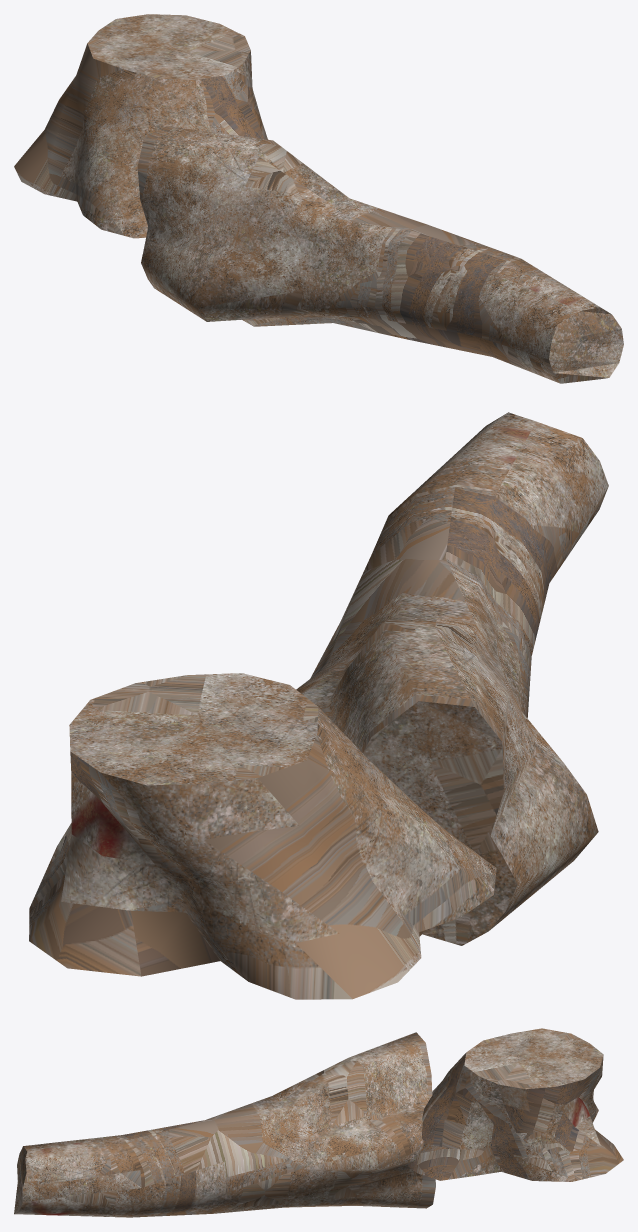
The model's file is Arbol.obj.
3 renders of one model, top to bottom at view 1: azimuth 30°, elevation 25°; view 2: azimuth 150°, elevation 25°; view 3: azimuth 270°, elevation 25°, orthographic. The views are drawn at different scales.
Visible parts, largest first — view 1: Foliage007; view 2: Foliage007; view 3: Foliage007.
Boxes of the visible parts, x1,y1,x2,y2 form: Foliage007: [14, 14, 623, 383]; Foliage007: [29, 412, 608, 999]; Foliage007: [14, 1028, 623, 1217].
Bounding box in the file's own units: 43.48 × 28.57 × 101.
